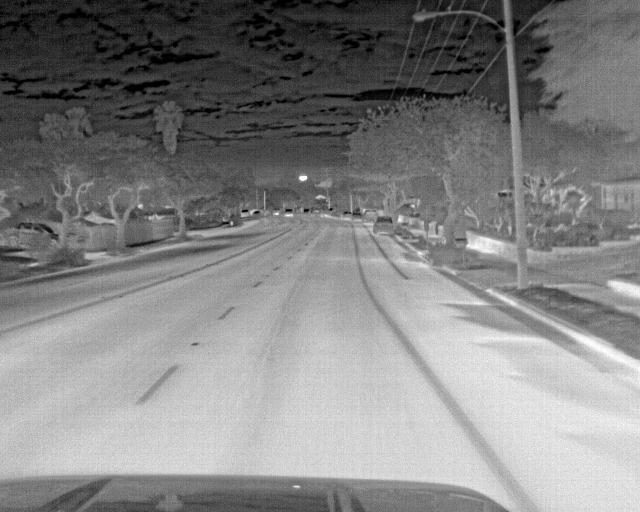car: (15, 222, 59, 242), (371, 213, 394, 234), (363, 207, 383, 226), (282, 206, 298, 219), (239, 206, 251, 218), (251, 208, 263, 220)
